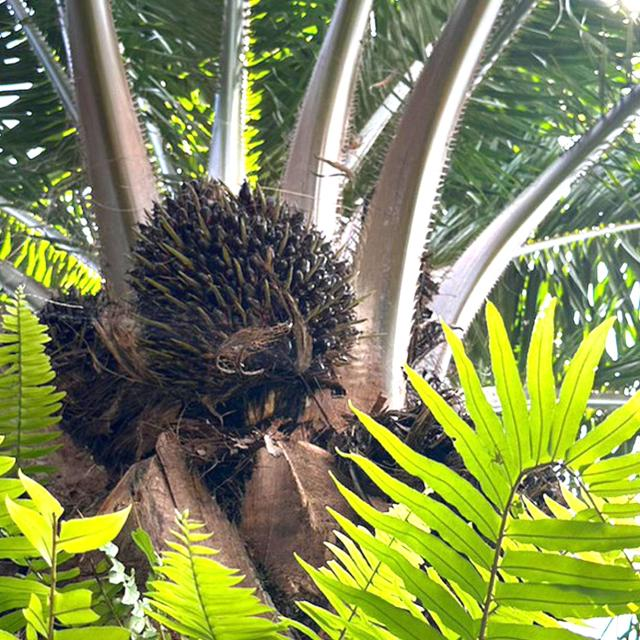almost: (117, 166, 395, 409)
